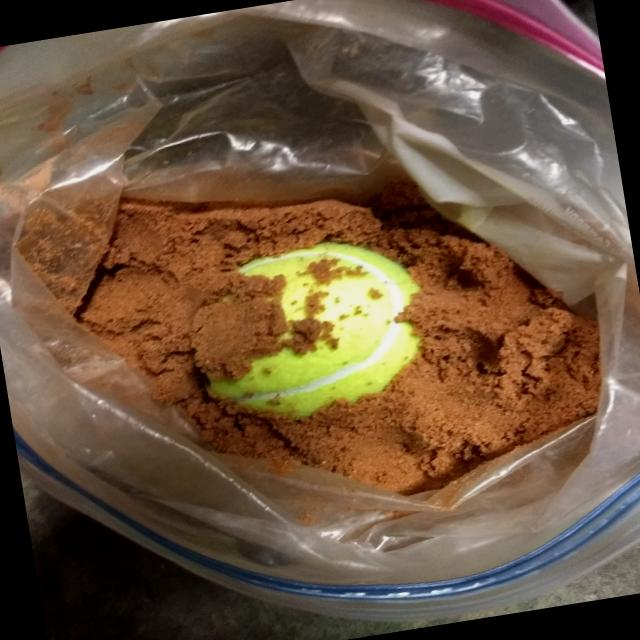Tennis Ball: (183, 234, 434, 428)
